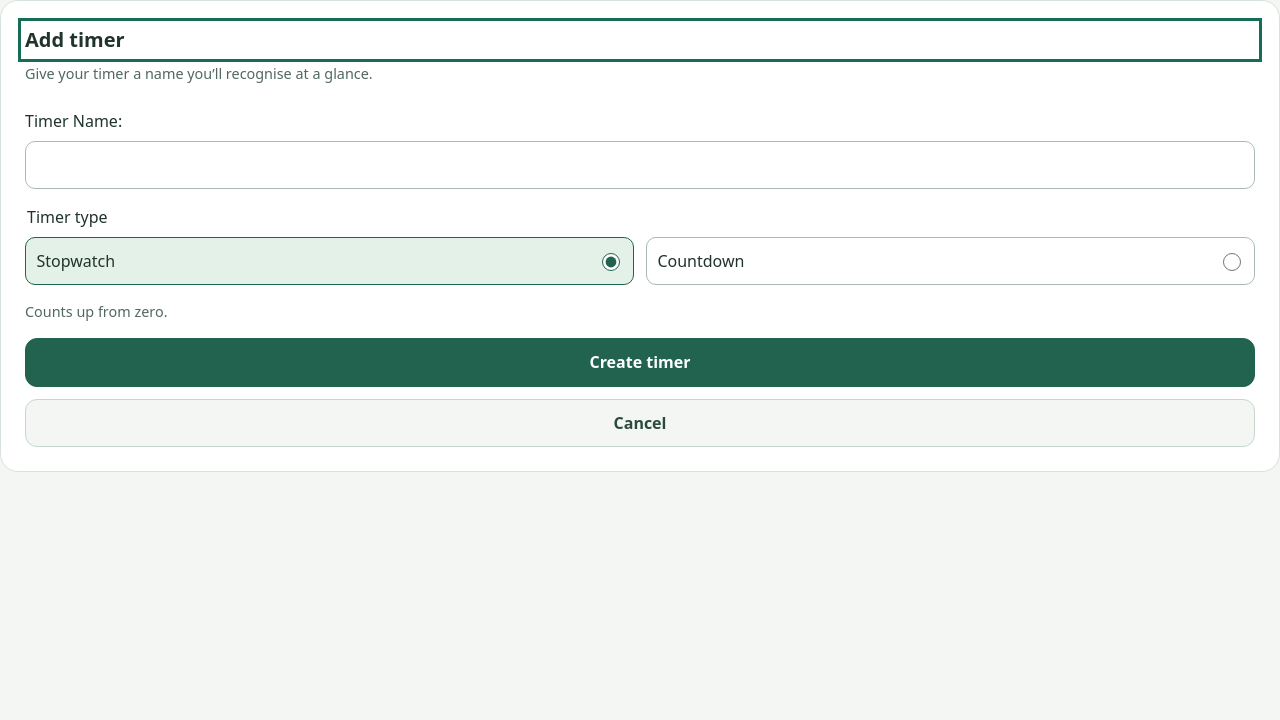
Scenario: TimerForm error handling › shows an error if a countdown duration is not a positive whole number
The width and height of the screenshot is (1280, 720).
Click the radio button labelled "Countdown" at x=1232, y=262, box [1223, 253, 1241, 271]
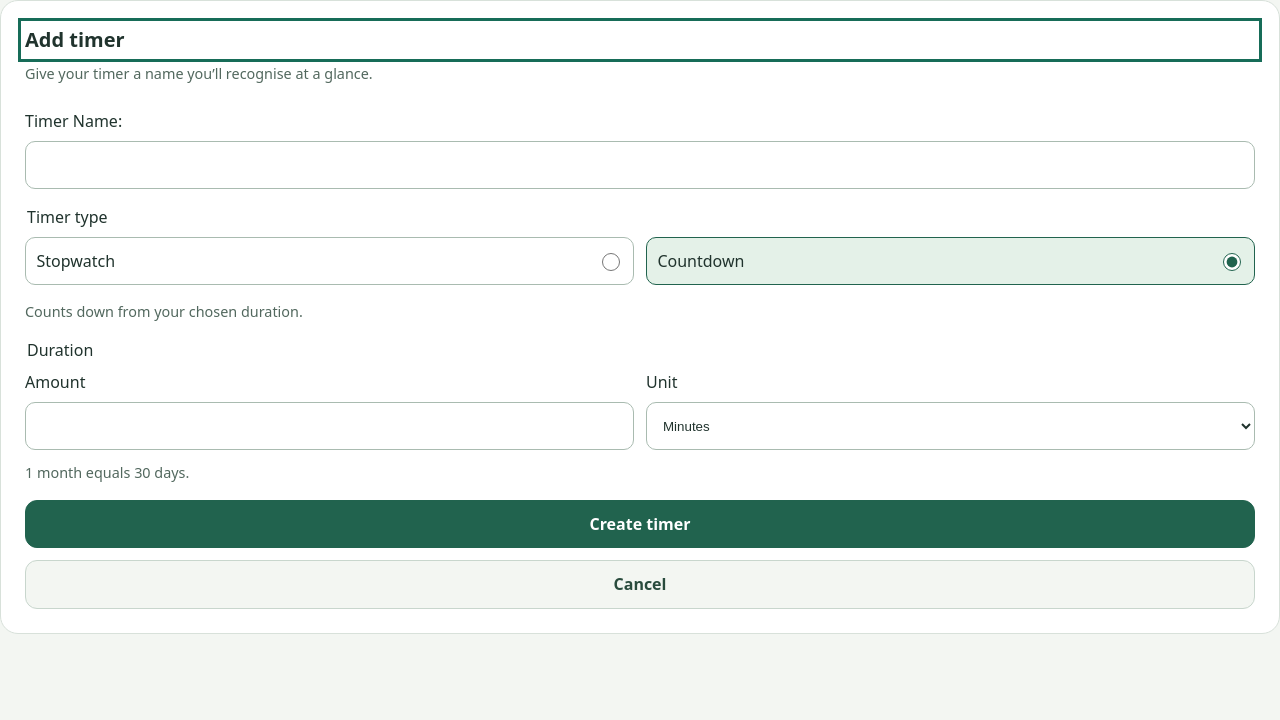
Type "Medication" into the field labelled "Timer Name:" at x=640, y=165, box [25, 141, 1255, 189]
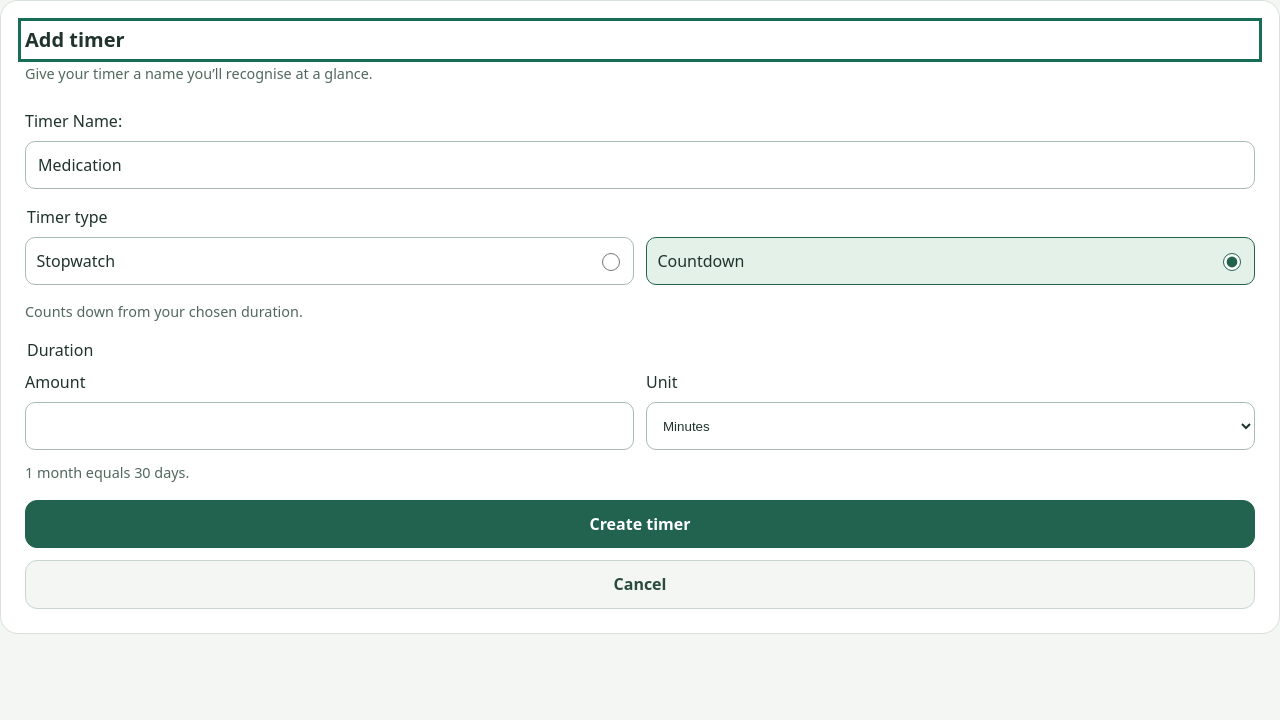
Type "0" into the number field labelled "Amount" at x=330, y=426, box [25, 402, 634, 450]
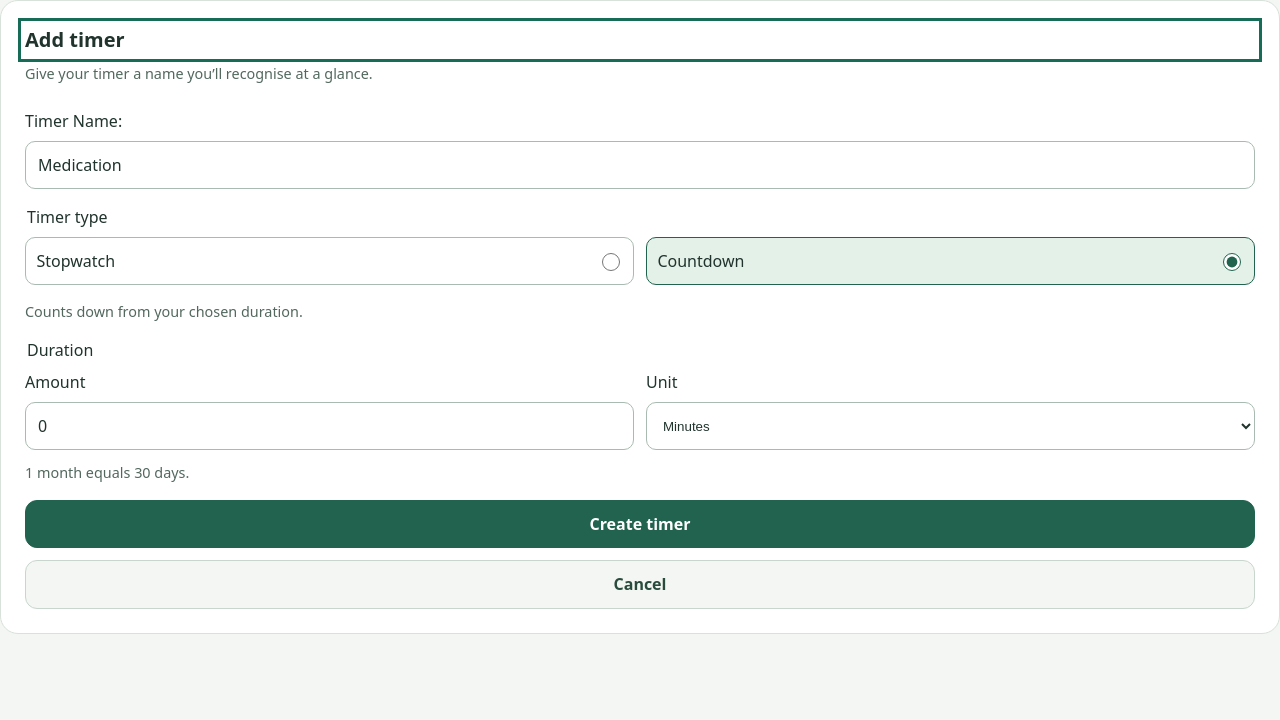
Submit the form named "Create timer", box [25, 109, 1255, 548]
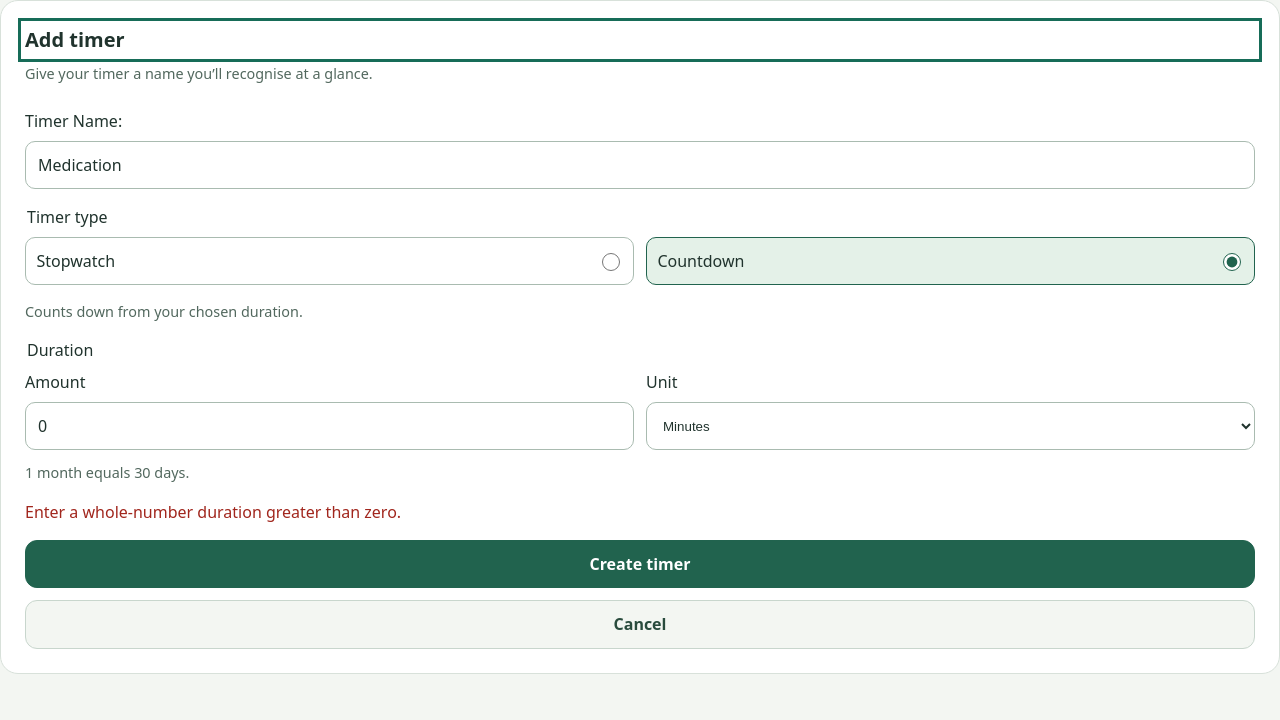
Expected: the message reads "Enter a whole-number duration greater than zero.", [25, 501, 401, 523]
